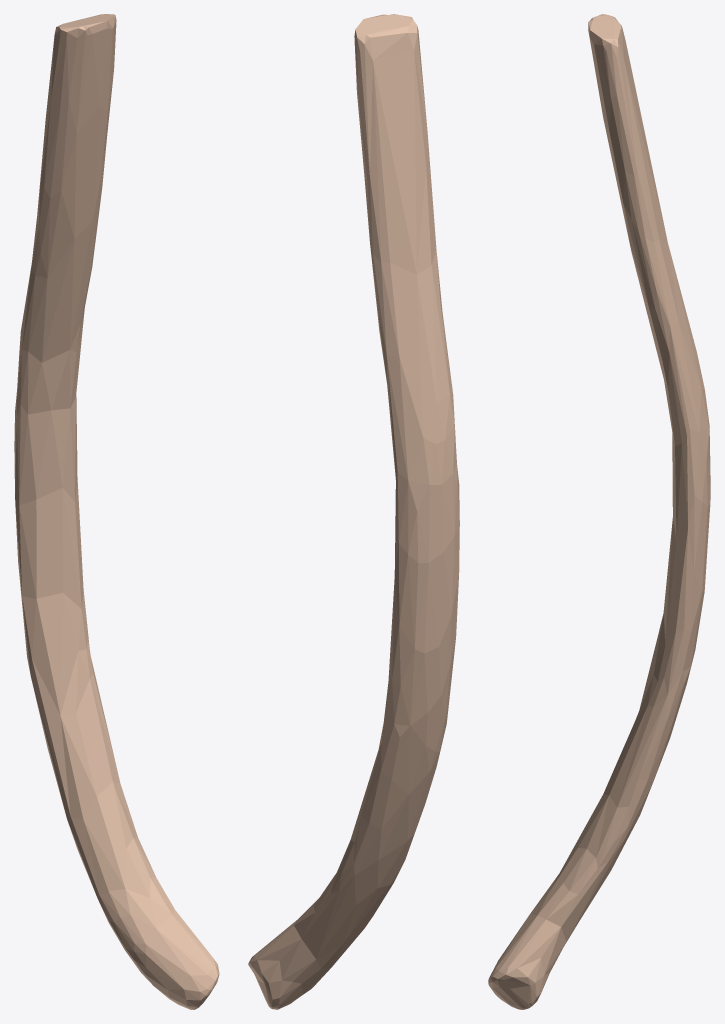
File: esophagus.glb
3 renders of one model, left to right at view 1: azimuth 30°, elevation 25°; view 2: azimuth 210°, elevation 25°; view 3: azimuth 270°, elevation 25°, orthographic. The views are drawn at different scales.
Parts seen in each view (by area): view 1: Esophagus; view 2: Esophagus; view 3: Esophagus.
Boxes of the visible parts, box(x1,y1,x2,y2) form: Esophagus: box(14, 14, 219, 1009); Esophagus: box(248, 14, 459, 1009); Esophagus: box(488, 14, 710, 1009).
Size of the model in its own units: 32.41 by 274 by 57.88.
